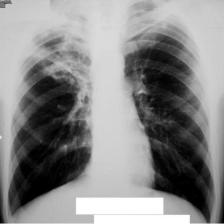tuberculosis: (4, 0, 220, 224)
